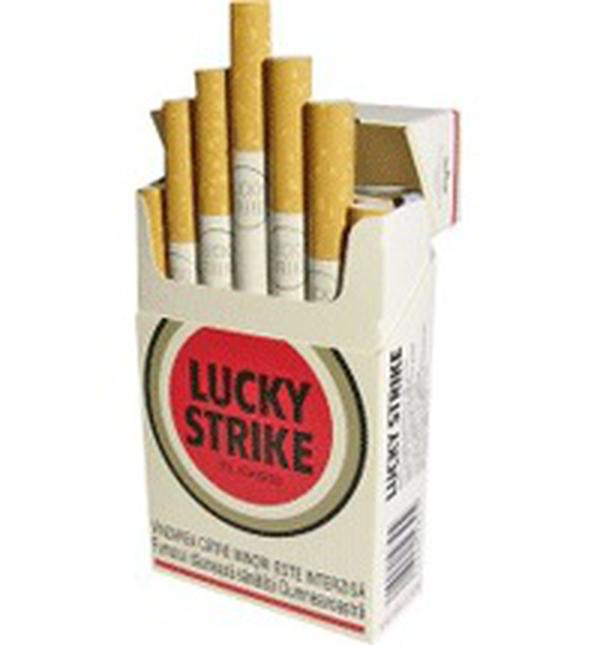lucky_strike_red: (145, 237, 383, 571)
